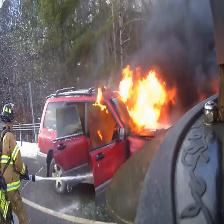fire: (103, 68, 184, 137)
